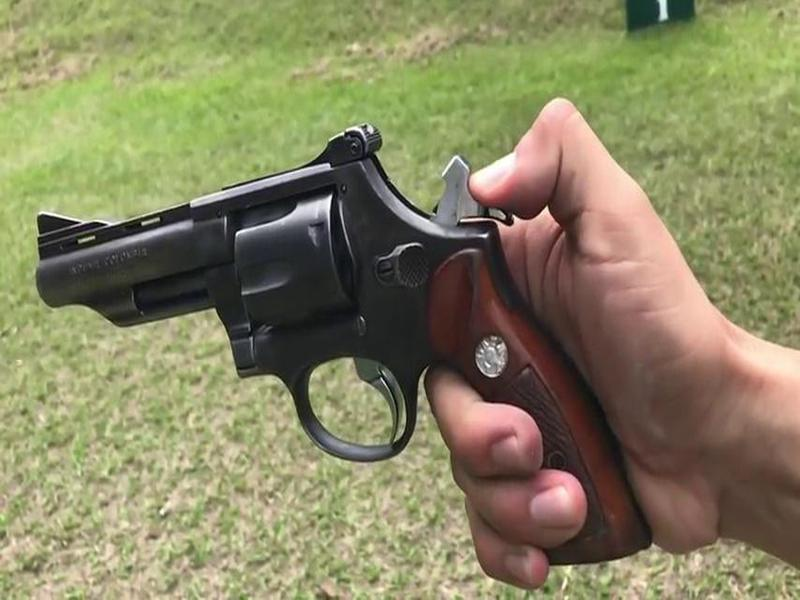Revolver: (22, 123, 547, 539)
